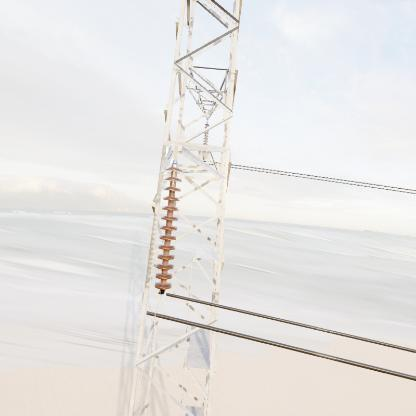insulator: (150, 162, 187, 297)
